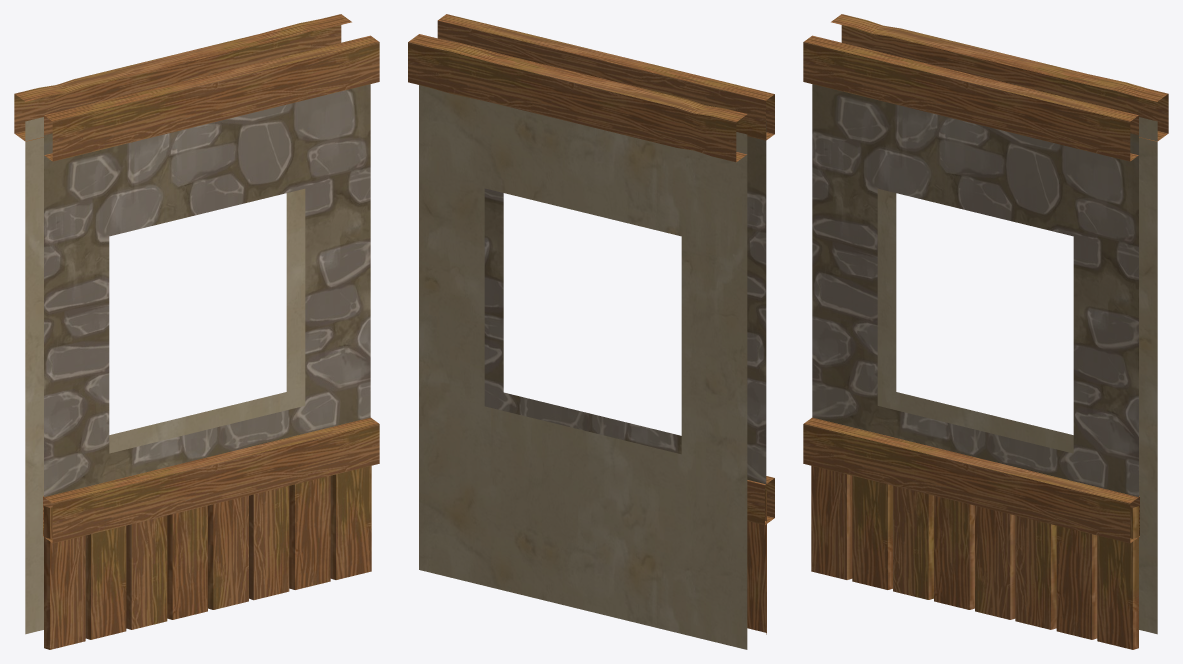
File: Wall_WoodBrick_Window_Wide_Flat.gltf
3 views of the same model, side by side, from view 1: azimuth 30°, elevation 25°; view 2: azimuth 150°, elevation 25°; view 3: azimuth 330°, elevation 25° (orthographic).
Parts seen in each view (by area): view 1: Wall_WoodBrick_Window_Wide_Flat; view 2: Wall_WoodBrick_Window_Wide_Flat; view 3: Wall_WoodBrick_Window_Wide_Flat.
Boxes of the visible parts, left/top/right/bottom form: Wall_WoodBrick_Window_Wide_Flat: left=14, top=14, right=379, bottom=649; Wall_WoodBrick_Window_Wide_Flat: left=408, top=14, right=774, bottom=649; Wall_WoodBrick_Window_Wide_Flat: left=803, top=14, right=1168, bottom=649.
Bounding box in the file's own units: 2 × 3.12 × 0.4065.
4 materials, 4 textured.
